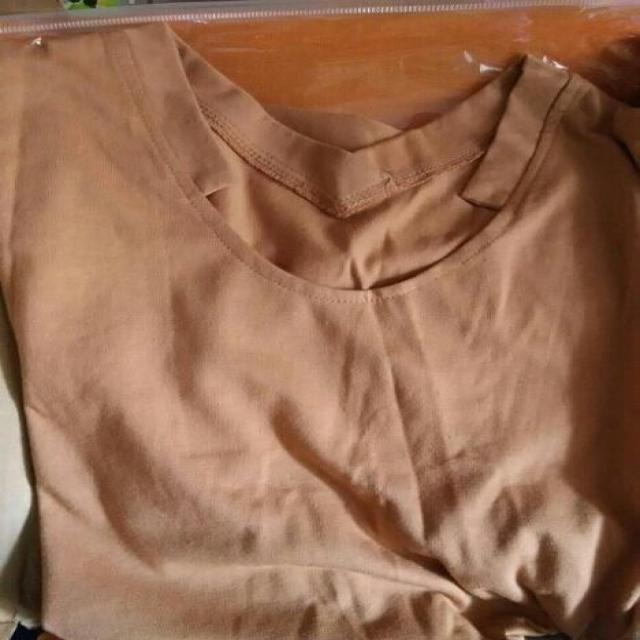short sleeve top: (3, 26, 637, 638)
